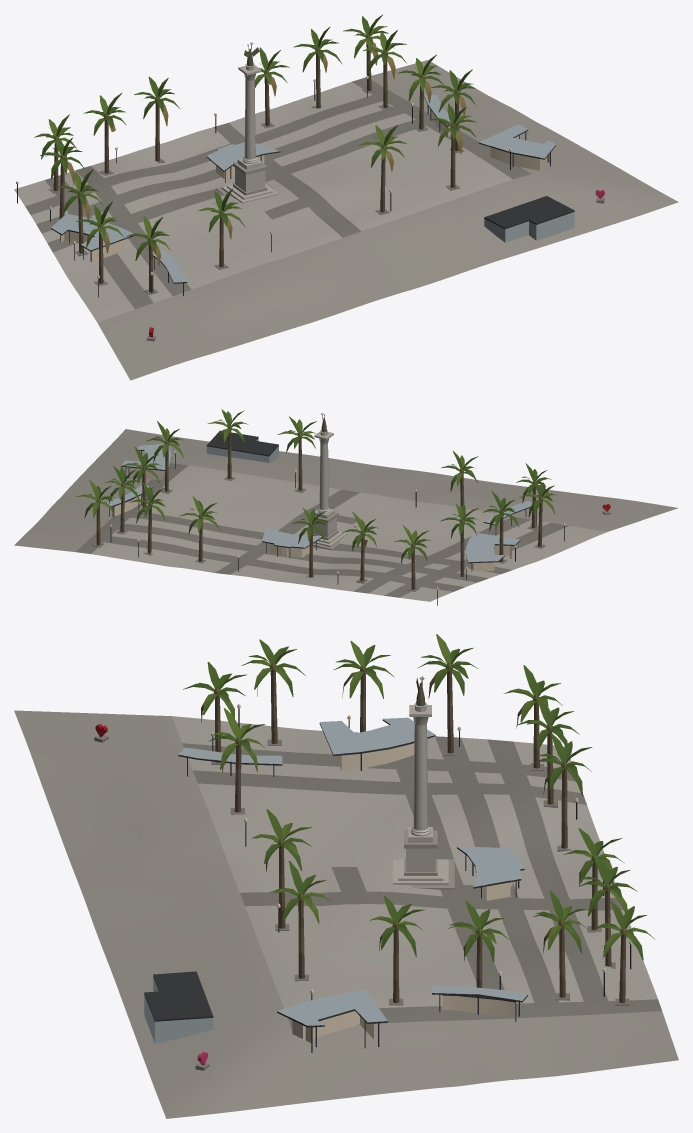
Rendered from unionSquare_lod1.glb.
3 renders of one model, top to bottom at view 1: azimuth 30°, elevation 25°; view 2: azimuth 150°, elevation 25°; view 3: azimuth 270°, elevation 25°, orthographic. The views are drawn at different scales.
Parts seen in each view (by area): view 1: L1_paving, L1_leaf, L1_bark, L1_glassc, L1_granite, L1_metal, L1_shop, L1_clear; view 2: L1_paving, L1_leaf, L1_bark, L1_glassc, L1_granite, L1_metal, L1_shop, L1_clear; view 3: L1_paving, L1_leaf, L1_glassc, L1_bark, L1_granite, L1_metal, L1_shop, L1_clear.
Part boxes in pixels (box(x1,y1,x2,y2)): L1_paving: box(14, 60, 678, 380); L1_leaf: box(34, 14, 476, 265); L1_bark: box(53, 34, 459, 292); L1_glassc: box(51, 95, 555, 282); L1_granite: box(48, 63, 604, 341); L1_metal: box(17, 42, 574, 297); L1_shop: box(60, 111, 549, 262); L1_clear: box(484, 212, 574, 242); L1_paving: box(14, 429, 678, 601); L1_leaf: box(76, 409, 557, 563); L1_bark: box(96, 425, 543, 589); L1_glassc: box(106, 443, 532, 562); L1_granite: box(92, 430, 610, 591); L1_metal: box(109, 413, 564, 605); L1_shop: box(112, 452, 511, 570); L1_clear: box(206, 438, 278, 462); L1_paving: box(14, 710, 678, 1118); L1_leaf: box(183, 634, 655, 962); L1_glassc: box(178, 717, 527, 1025); L1_bark: box(214, 663, 626, 1003); L1_granite: box(94, 702, 629, 1070); L1_metal: box(144, 676, 631, 1052); L1_shop: box(292, 743, 515, 1042); L1_clear: box(144, 977, 213, 1043).
Bounding box in the file's own units: 144 × 38.41 × 103.
